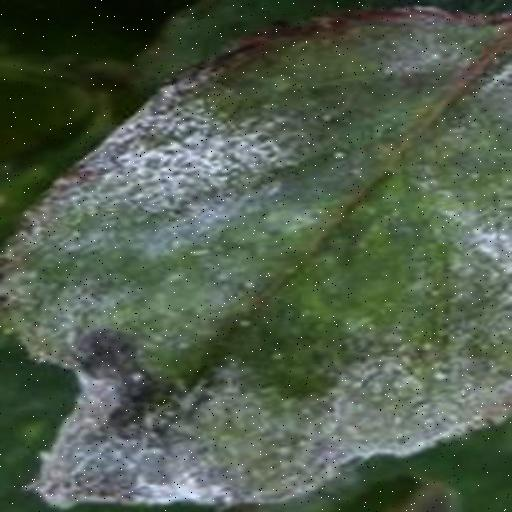powdery_mildew: (0, 9, 512, 506)
